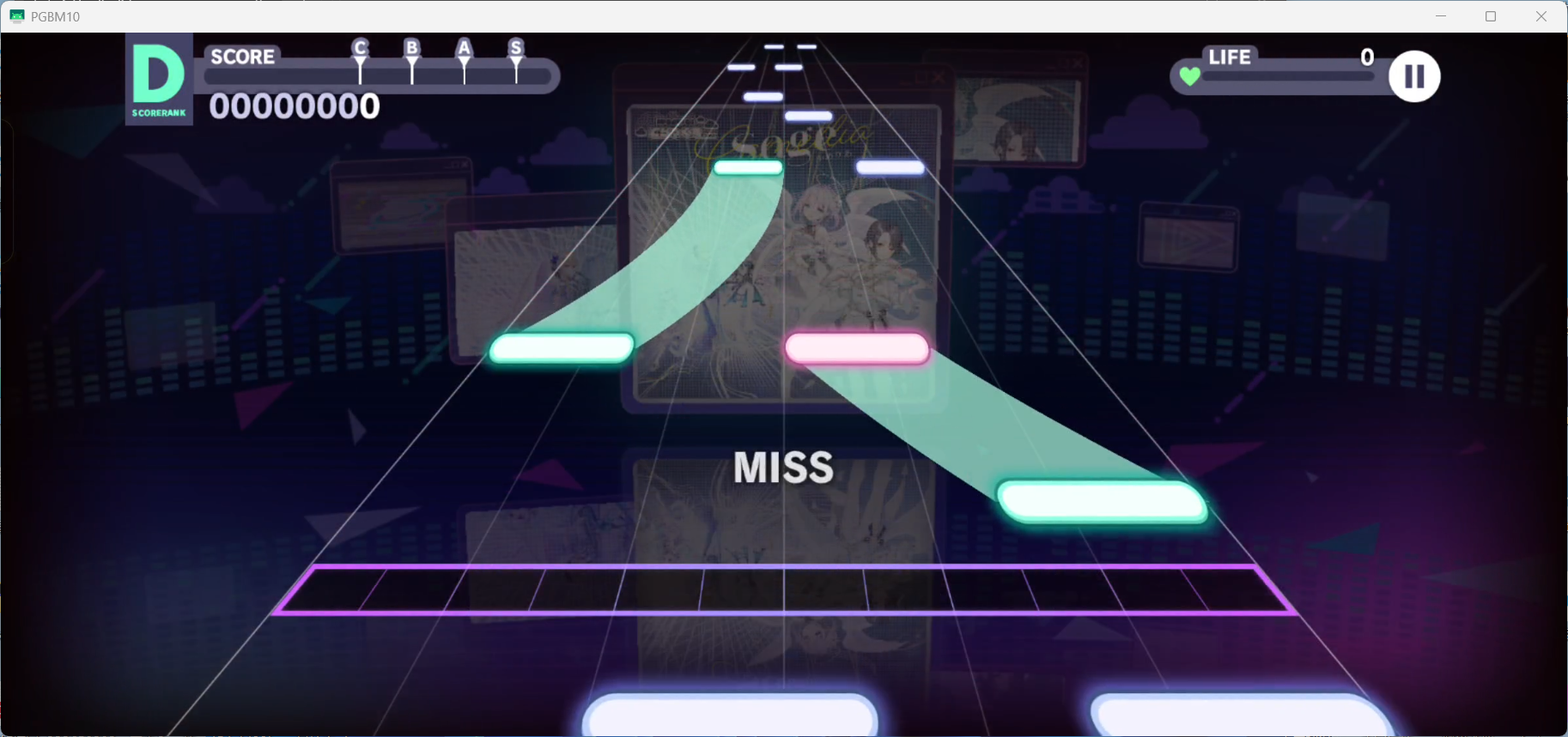hold: (802, 365, 1170, 484), (519, 178, 784, 336)
tap: (580, 692, 878, 737), (1090, 694, 1392, 737), (996, 480, 1208, 525), (785, 333, 930, 365), (489, 334, 635, 364), (714, 160, 783, 177), (857, 160, 925, 176), (784, 111, 832, 120), (744, 92, 783, 101), (726, 63, 755, 70), (775, 63, 803, 70), (764, 44, 783, 49), (797, 44, 817, 48)
